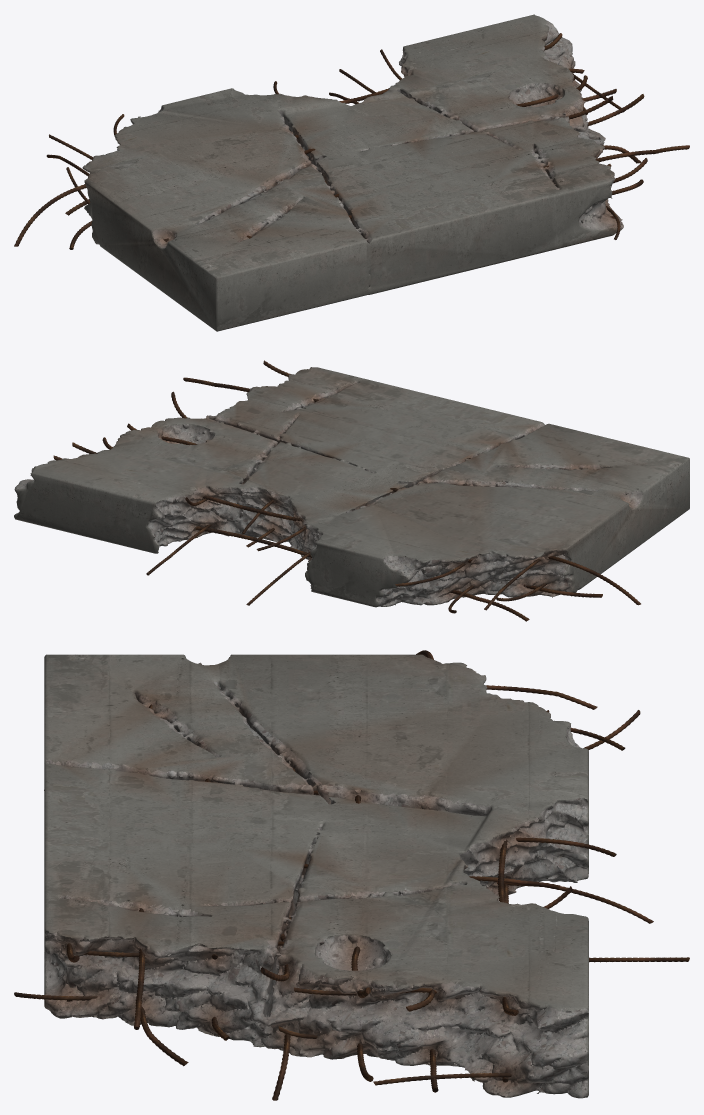
File: concrete_slab_premium.glb
The picture shows the model from 3 angles, top to bottom: view 1: azimuth 30°, elevation 25°; view 2: azimuth 150°, elevation 25°; view 3: azimuth 270°, elevation 25°; orthographic projection. The views are drawn at different scales.
Visible parts, largest first — view 1: concrete_slab_premium, rebar; view 2: concrete_slab_premium, rebar; view 3: concrete_slab_premium, rebar.
Part boxes in pixels (left/top/right/bottom): concrete_slab_premium: left=82, top=14, right=623, bottom=331; rebar: left=14, top=33, right=689, bottom=249; concrete_slab_premium: left=14, top=367, right=689, bottom=607; rebar: left=53, top=360, right=640, bottom=621; concrete_slab_premium: left=44, top=654, right=588, bottom=1098; rebar: left=14, top=650, right=689, bottom=1100.
Bounding box in the file's own units: 2.79 × 0.339 × 1.86.
Materials: 3 (3 with a texture image).
